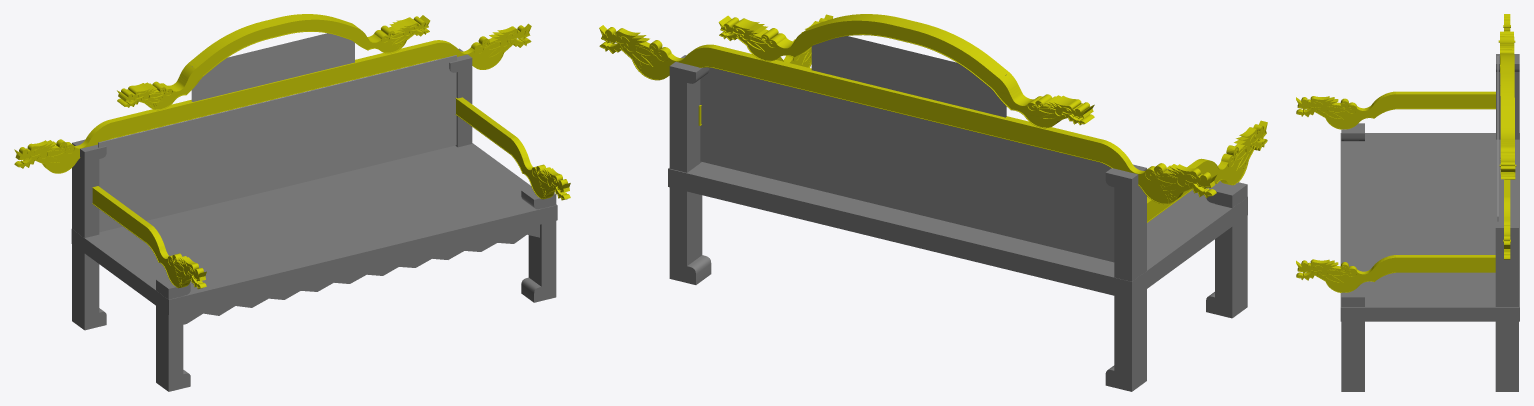
The model's file is Throne_gr.fbx.
3 renders of one model, left to right at view 1: azimuth 30°, elevation 25°; view 2: azimuth 150°, elevation 25°; view 3: azimuth 270°, elevation 25°, orthographic. The views are drawn at different scales.
Parts seen in each view (by area): view 1: Group_2097, Box035, Group_2232, Group_2087, Box038, Group_7392, Group_7389, Group_2354, Group_2105, Group_7385, Group_7390, Group_7391; view 2: Box035, Group_2097, Group_2232, Group_2087, Box038, Group_7392, Group_7391, Group_7385, Group_2354; view 3: Group_2097, Group_2354, Group_2105, Group_7391, Group_2087, Group_7390, Group_7392, Group_2232, Group_7385, Box035.
Part boxes in pixels (x1,y1,x2,y2): Group_2097: (71, 143, 557, 314); Box035: (98, 55, 456, 232); Group_2232: (14, 23, 531, 173); Group_2087: (117, 14, 430, 110); Box038: (191, 33, 354, 101); Group_7392: (72, 139, 106, 330); Group_7389: (183, 224, 539, 324); Group_2354: (92, 186, 206, 289); Group_2105: (455, 97, 570, 200); Group_7385: (156, 277, 190, 391); Group_7390: (521, 188, 556, 302); Group_7391: (449, 48, 472, 147); Box035: (700, 67, 1114, 262); Group_2097: (668, 162, 1247, 299); Group_2232: (599, 25, 1216, 204); Group_2087: (718, 14, 1094, 128); Box038: (811, 36, 1006, 117); Group_7392: (1105, 164, 1146, 391); Group_7391: (669, 55, 711, 284); Group_7385: (1206, 181, 1247, 318); Group_2354: (1147, 120, 1267, 222); Group_2097: (1340, 133, 1519, 321); Group_2354: (1296, 91, 1495, 129); Group_2105: (1296, 255, 1495, 292); Group_7391: (1495, 218, 1518, 391); Group_2087: (1498, 31, 1516, 179); Group_7390: (1341, 287, 1364, 391); Group_7392: (1496, 54, 1519, 139); Group_2232: (1503, 14, 1510, 259); Group_7385: (1341, 123, 1364, 141); Box035: (1497, 56, 1498, 221).
Size of the model in its own units: 270 by 129 by 111.
